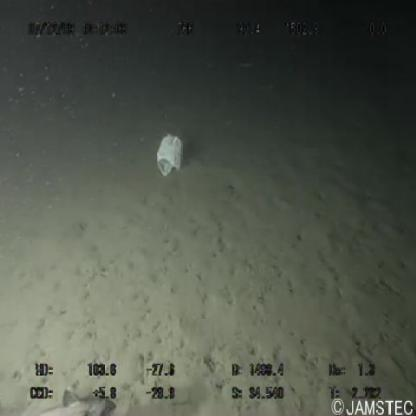Rác: (152, 128, 186, 180)
